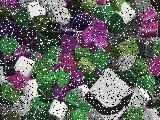Left: (82, 67, 137, 120)
